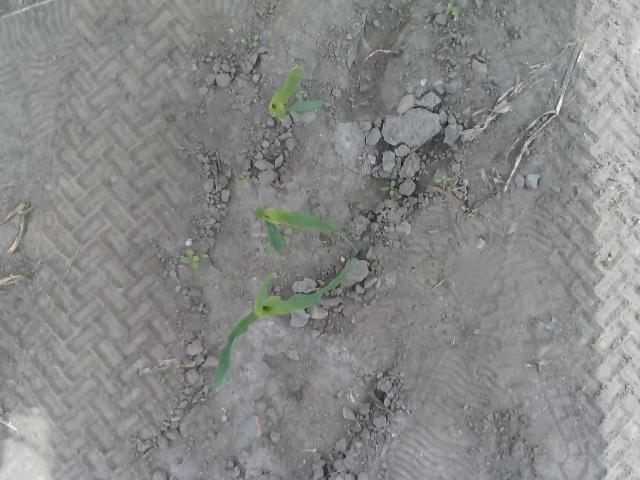Maize: (214, 262, 352, 392), (248, 204, 359, 256), (268, 64, 321, 125)
Weeds: (179, 245, 204, 271), (379, 179, 399, 196), (447, 0, 462, 17), (434, 174, 456, 185), (248, 34, 260, 49), (280, 226, 291, 241), (191, 397, 206, 405), (238, 174, 248, 184), (399, 0, 412, 6), (272, 272, 278, 280)
